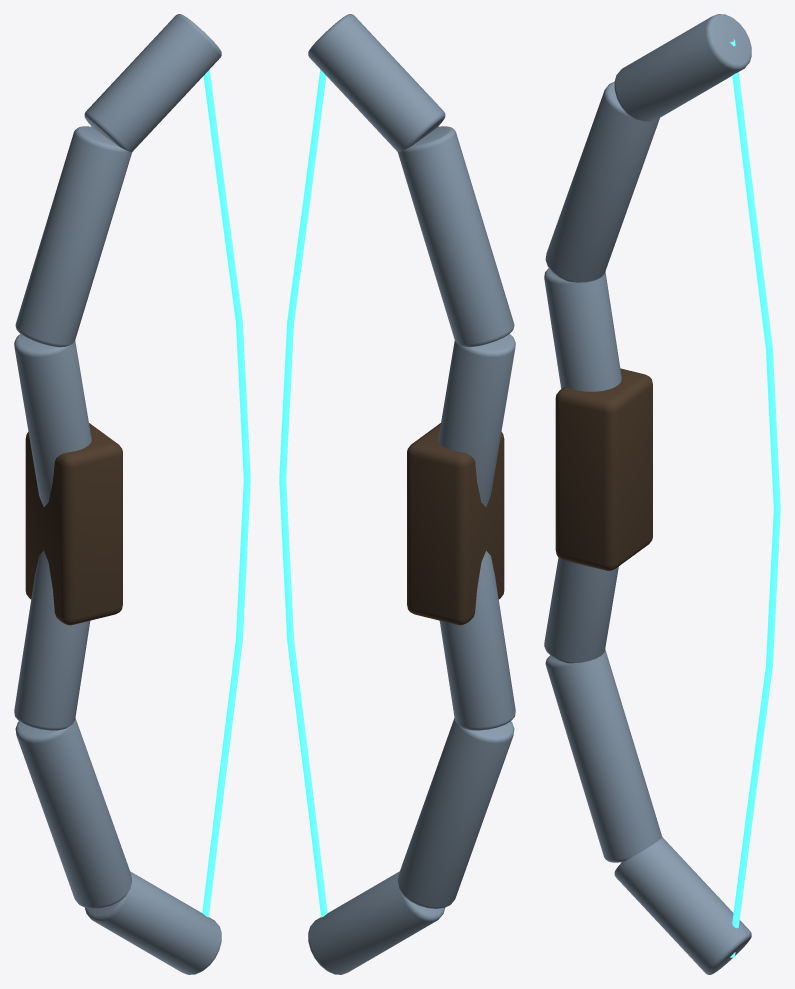
Rendered from bow_v7.glb.
3 views of the same model, side by side, from view 1: azimuth 30°, elevation 25°; view 2: azimuth 150°, elevation 25°; view 3: azimuth 330°, elevation 25° (orthographic).
Visible parts, largest first — view 1: REFLEX_GRIP_SECONDARY, SEGMENTED_BOW_PRIMARY.004, SEGMENTED_BOW_PRIMARY.001, SEGMENTED_BOW_PRIMARY.005, SEGMENTED_BOW_PRIMARY.002, SEGMENTED_BOW_PRIMARY.003, SEGMENTED_BOW_PRIMARY, REFLEX_STRING_EMISSIVE; view 2: REFLEX_GRIP_SECONDARY, SEGMENTED_BOW_PRIMARY.004, SEGMENTED_BOW_PRIMARY.001, SEGMENTED_BOW_PRIMARY.005, SEGMENTED_BOW_PRIMARY.002, SEGMENTED_BOW_PRIMARY.003, SEGMENTED_BOW_PRIMARY, REFLEX_STRING_EMISSIVE; view 3: REFLEX_GRIP_SECONDARY, SEGMENTED_BOW_PRIMARY.001, SEGMENTED_BOW_PRIMARY.004, SEGMENTED_BOW_PRIMARY, SEGMENTED_BOW_PRIMARY.005, SEGMENTED_BOW_PRIMARY.003, REFLEX_STRING_EMISSIVE, SEGMENTED_BOW_PRIMARY.002.
Part boxes in pixels (x1=…): REFLEX_GRIP_SECONDARY: x1=25, y1=423, x2=122, y2=625; SEGMENTED_BOW_PRIMARY.004: x1=15, y1=126, x2=132, y2=347; SEGMENTED_BOW_PRIMARY.001: x1=15, y1=718, x2=132, y2=908; SEGMENTED_BOW_PRIMARY.005: x1=84, y1=14, x2=221, y2=151; SEGMENTED_BOW_PRIMARY.002: x1=14, y1=551, x2=90, y2=730; SEGMENTED_BOW_PRIMARY.003: x1=14, y1=334, x2=91, y2=506; SEGMENTED_BOW_PRIMARY: x1=85, y1=871, x2=221, y2=974; REFLEX_STRING_EMISSIVE: x1=202, y1=31, x2=250, y2=917; REFLEX_GRIP_SECONDARY: x1=407, y1=423, x2=504, y2=625; SEGMENTED_BOW_PRIMARY.004: x1=397, y1=126, x2=514, y2=347; SEGMENTED_BOW_PRIMARY.001: x1=397, y1=718, x2=514, y2=908; SEGMENTED_BOW_PRIMARY.005: x1=308, y1=14, x2=445, y2=151; SEGMENTED_BOW_PRIMARY.002: x1=439, y1=551, x2=515, y2=730; SEGMENTED_BOW_PRIMARY.003: x1=438, y1=334, x2=515, y2=506; SEGMENTED_BOW_PRIMARY: x1=308, y1=871, x2=444, y2=974; REFLEX_STRING_EMISSIVE: x1=279, y1=31, x2=327, y2=917; REFLEX_GRIP_SECONDARY: x1=555, y1=368, x2=652, y2=570; SEGMENTED_BOW_PRIMARY.001: x1=545, y1=649, x2=662, y2=862; SEGMENTED_BOW_PRIMARY.004: x1=545, y1=81, x2=659, y2=282; SEGMENTED_BOW_PRIMARY: x1=614, y1=837, x2=751, y2=974; SEGMENTED_BOW_PRIMARY.005: x1=614, y1=14, x2=751, y2=121; SEGMENTED_BOW_PRIMARY.003: x1=544, y1=268, x2=621, y2=391; REFLEX_STRING_EMISSIVE: x1=730, y1=39, x2=780, y2=957; SEGMENTED_BOW_PRIMARY.002: x1=544, y1=557, x2=618, y2=663.
Size of the model in its own units: 0.9128 by 3.59 by 0.3.
